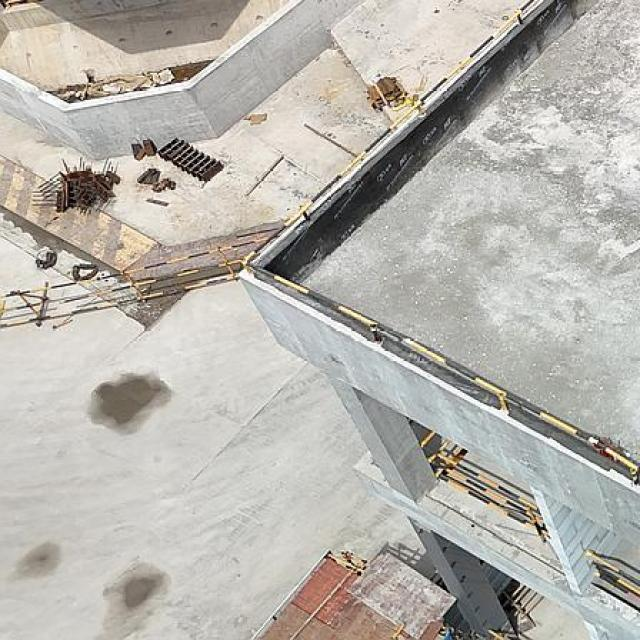Guardrail: (235, 0, 640, 488), (419, 432, 550, 544), (585, 551, 640, 602), (502, 583, 544, 628)
